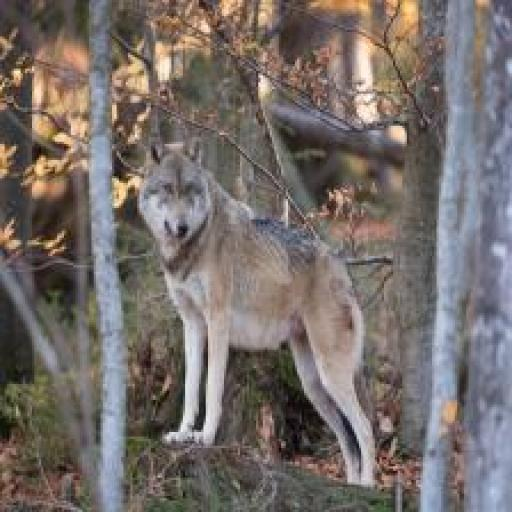wolf: (121, 116, 411, 512)
